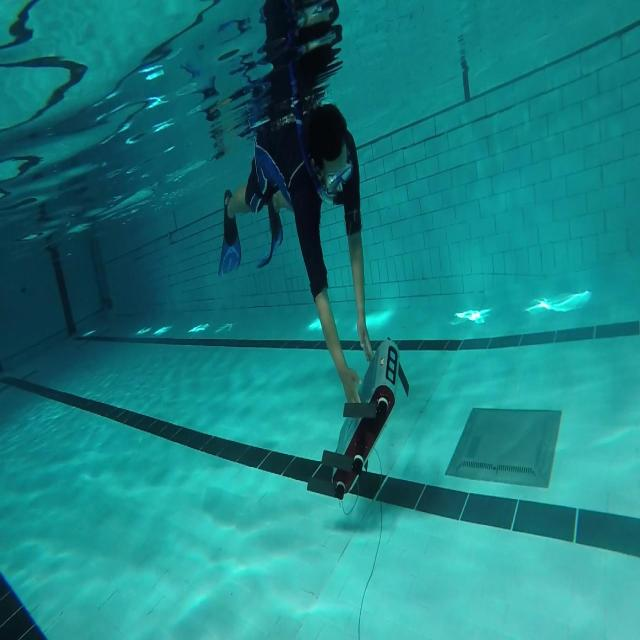human: (218, 98, 374, 410)
